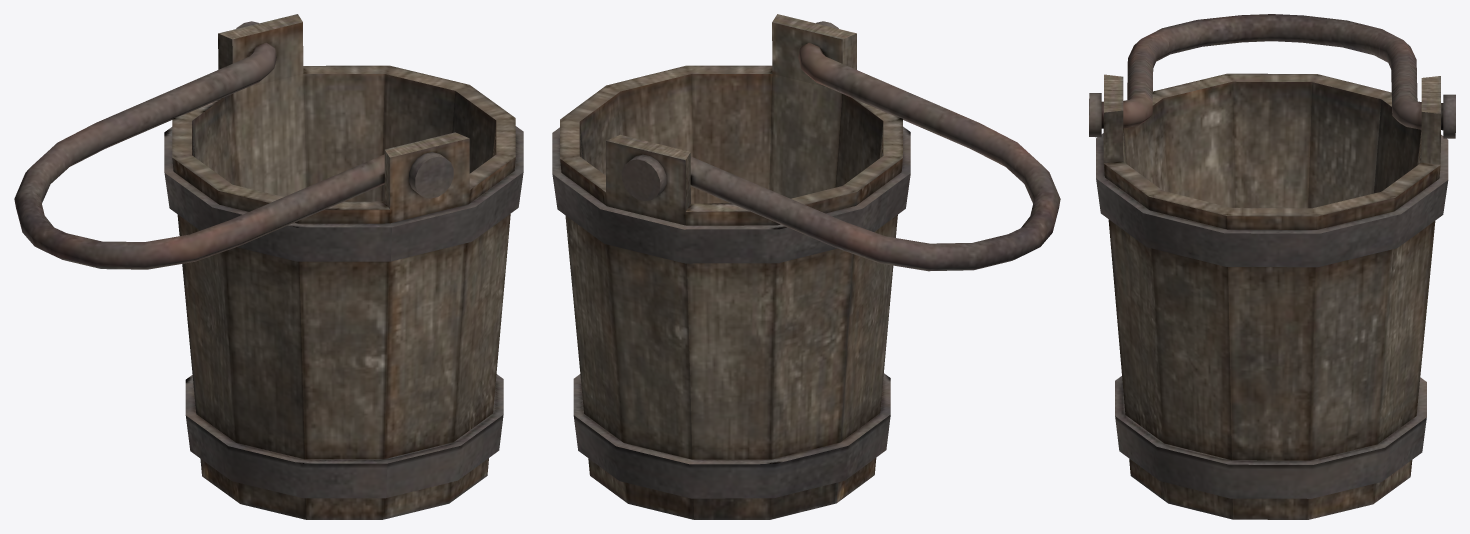
The model's file is wooden_bucket.glb.
3 renders of one model, left to right at view 1: azimuth 30°, elevation 25°; view 2: azimuth 150°, elevation 25°; view 3: azimuth 270°, elevation 25°, orthographic.
Parts seen in each view (by area): view 1: Bucket_LP_FloorExtension_1_VarA_LOD0_FloorExtension_1_VarA_m; view 2: Bucket_LP_FloorExtension_1_VarA_LOD0_FloorExtension_1_VarA_m; view 3: Bucket_LP_FloorExtension_1_VarA_LOD0_FloorExtension_1_VarA_m.
Boxes of the visible parts, left/top/right/bottom form: Bucket_LP_FloorExtension_1_VarA_LOD0_FloorExtension_1_VarA_m: left=14, top=14, right=523, bottom=519; Bucket_LP_FloorExtension_1_VarA_LOD0_FloorExtension_1_VarA_m: left=552, top=14, right=1060, bottom=519; Bucket_LP_FloorExtension_1_VarA_LOD0_FloorExtension_1_VarA_m: left=1089, top=14, right=1455, bottom=519.
Bounding box in the file's own units: 0.5132 × 0.3939 × 0.3563.
Materials: 1 (1 with a texture image).
